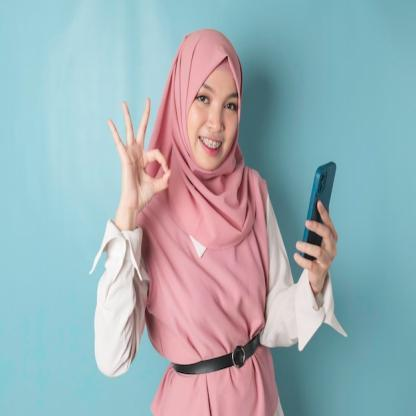ok: (106, 92, 172, 204)
